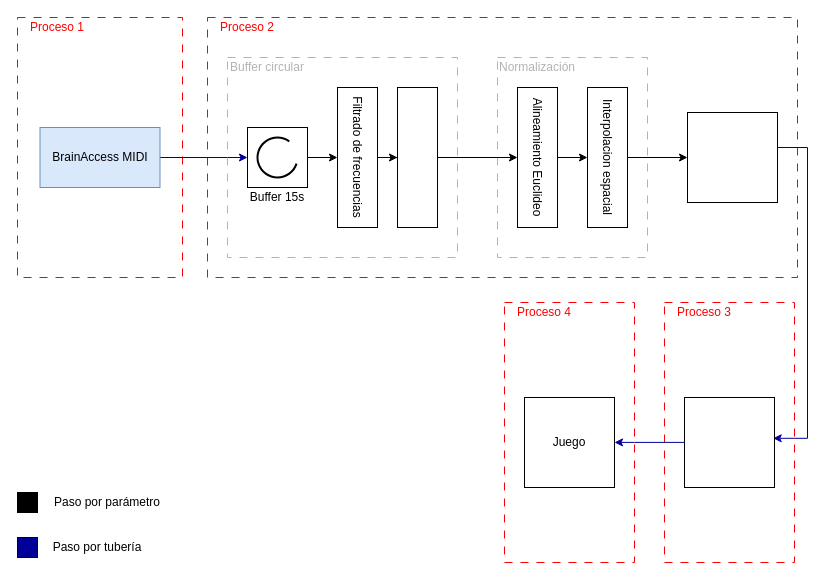
The diagram is 833 pixels wide and 580 high, and some of its shapes have lost their labels. Each missing label, with the centre of its shape:
"Interprete" goes at [729,442].
"MIRepNet (Modelo)" goes at [732,157].
"Recorte últimos 4s" goes at [417,157].
